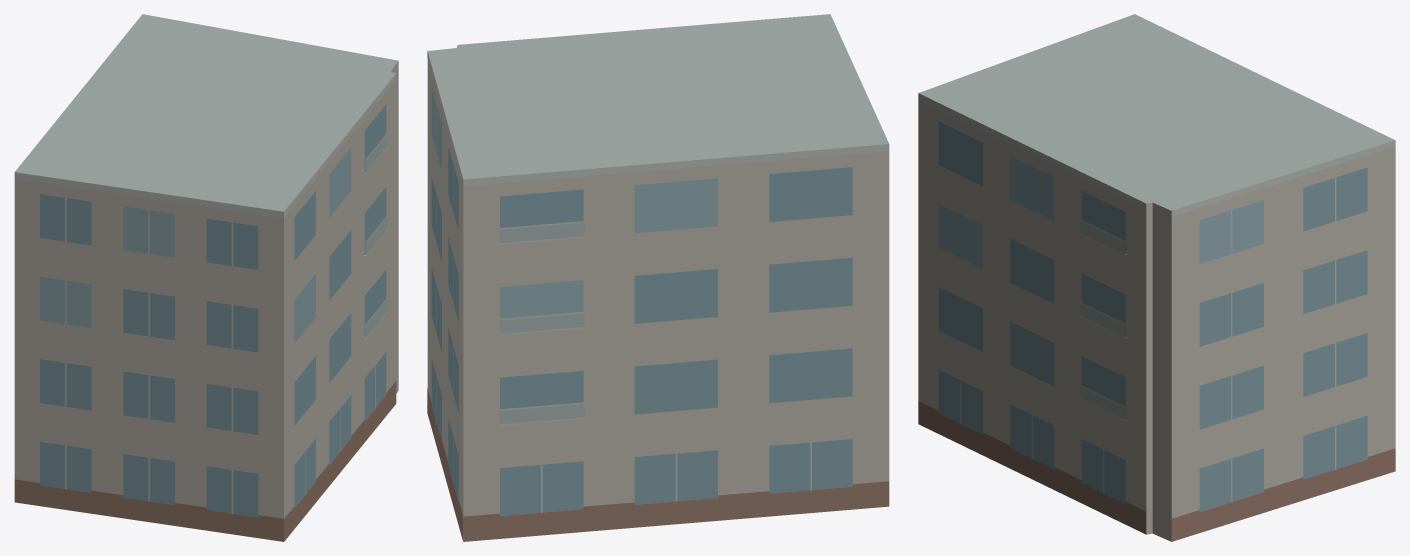
Rendered from survey-upis-32629026.glb.
The picture shows the model from 3 angles, left to right: view 1: azimuth 30°, elevation 25°; view 2: azimuth 150°, elevation 25°; view 3: azimuth 270°, elevation 25°; orthographic projection. The views are drawn at different scales.
Parts seen in each view (by area): view 1: survey-upis-32629026.tmp; view 2: survey-upis-32629026.tmp; view 3: survey-upis-32629026.tmp.
Boxes of the visible parts, bbox=[...] form: survey-upis-32629026.tmp: bbox=[14, 14, 398, 541]; survey-upis-32629026.tmp: bbox=[427, 14, 889, 541]; survey-upis-32629026.tmp: bbox=[918, 14, 1395, 541].
Size of the model in its own units: 15.82 by 12.4 by 16.21.
